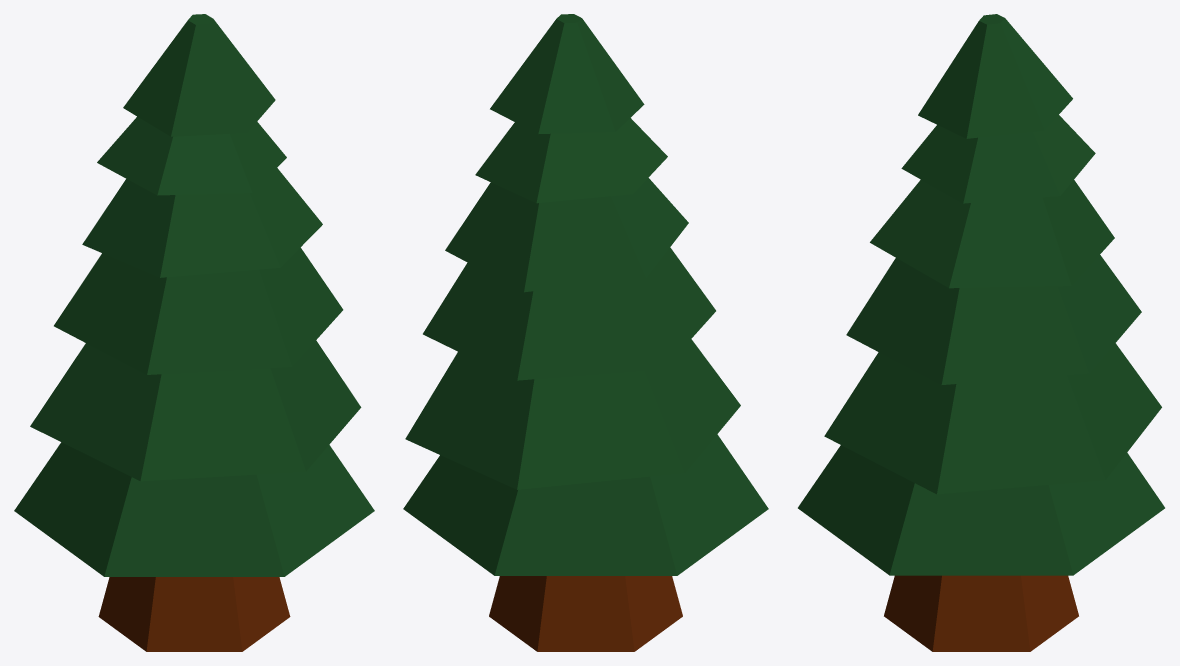
File: Tree.fbx
3 renders of one model, left to right at view 1: azimuth 30°, elevation 25°; view 2: azimuth 150°, elevation 25°; view 3: azimuth 270°, elevation 25°, orthographic.
Visible parts, largest first — view 1: Leafs, Trunk; view 2: Leafs, Trunk; view 3: Leafs, Trunk.
Boxes of the visible parts, <box> form: Leafs: <box>14,14,374,576</box>; Trunk: <box>98,577,290,651</box>; Leafs: <box>403,14,768,575</box>; Trunk: <box>489,576,682,651</box>; Leafs: <box>798,14,1164,575</box>; Trunk: <box>884,575,1078,651</box>.
Size of the model in its own units: 72.39 by 146 by 80.71.
